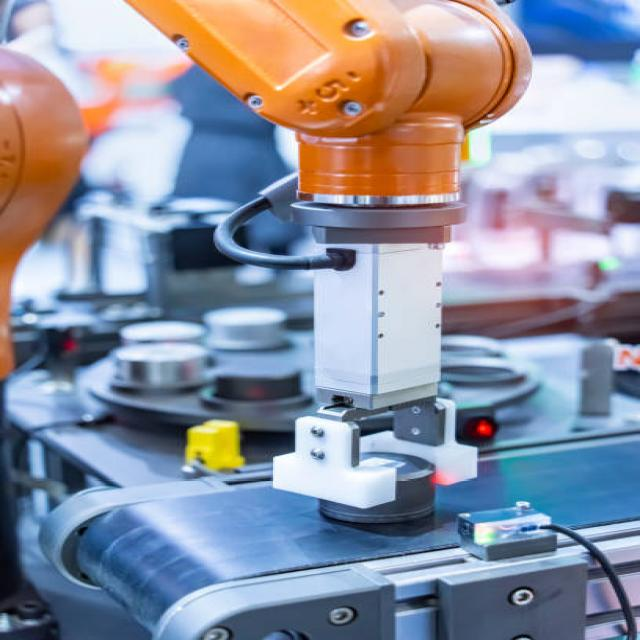Robotic-arm: (0, 0, 531, 378)
